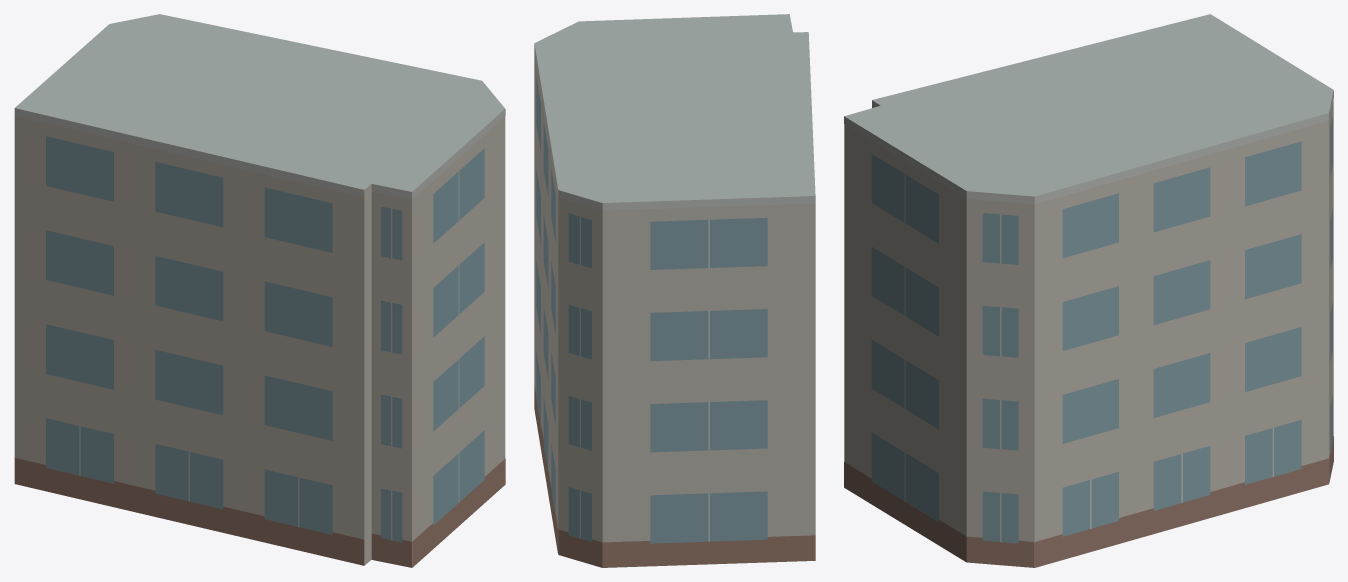
Rendered from survey-upis-32882624.glb.
3 renders of one model, left to right at view 1: azimuth 30°, elevation 25°; view 2: azimuth 150°, elevation 25°; view 3: azimuth 270°, elevation 25°, orthographic. The views are drawn at different scales.
Visible parts, largest first — view 1: survey-upis-32882624.tmp; view 2: survey-upis-32882624.tmp; view 3: survey-upis-32882624.tmp.
Part boxes in pixels (left/top/right/bottom): survey-upis-32882624.tmp: left=14, top=14, right=505, bottom=567; survey-upis-32882624.tmp: left=534, top=14, right=815, bottom=567; survey-upis-32882624.tmp: left=844, top=14, right=1333, bottom=567.
Size of the model in its own units: 12.34 by 11.7 by 13.99.
